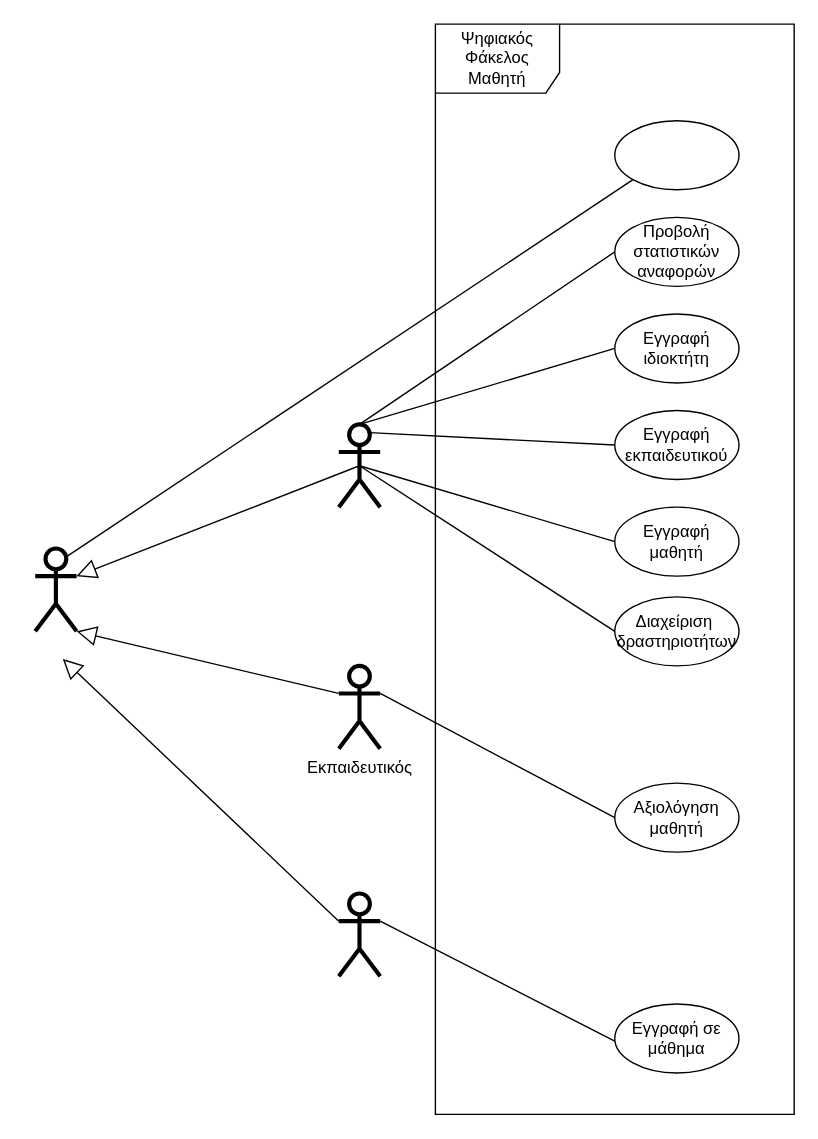
The diagram is 818 pixels wide and 1139 high, and some of its shapes have lost their labels. The box of each missing label's shape, as (x1, y1, x2, y2) in pixels:
Ιδιοκτήτης: (336, 422, 382, 509)
Κηδεμόνας: (336, 891, 382, 978)
Σύνδεση: (613, 119, 739, 190)
Χρήστης: (32, 546, 78, 633)
